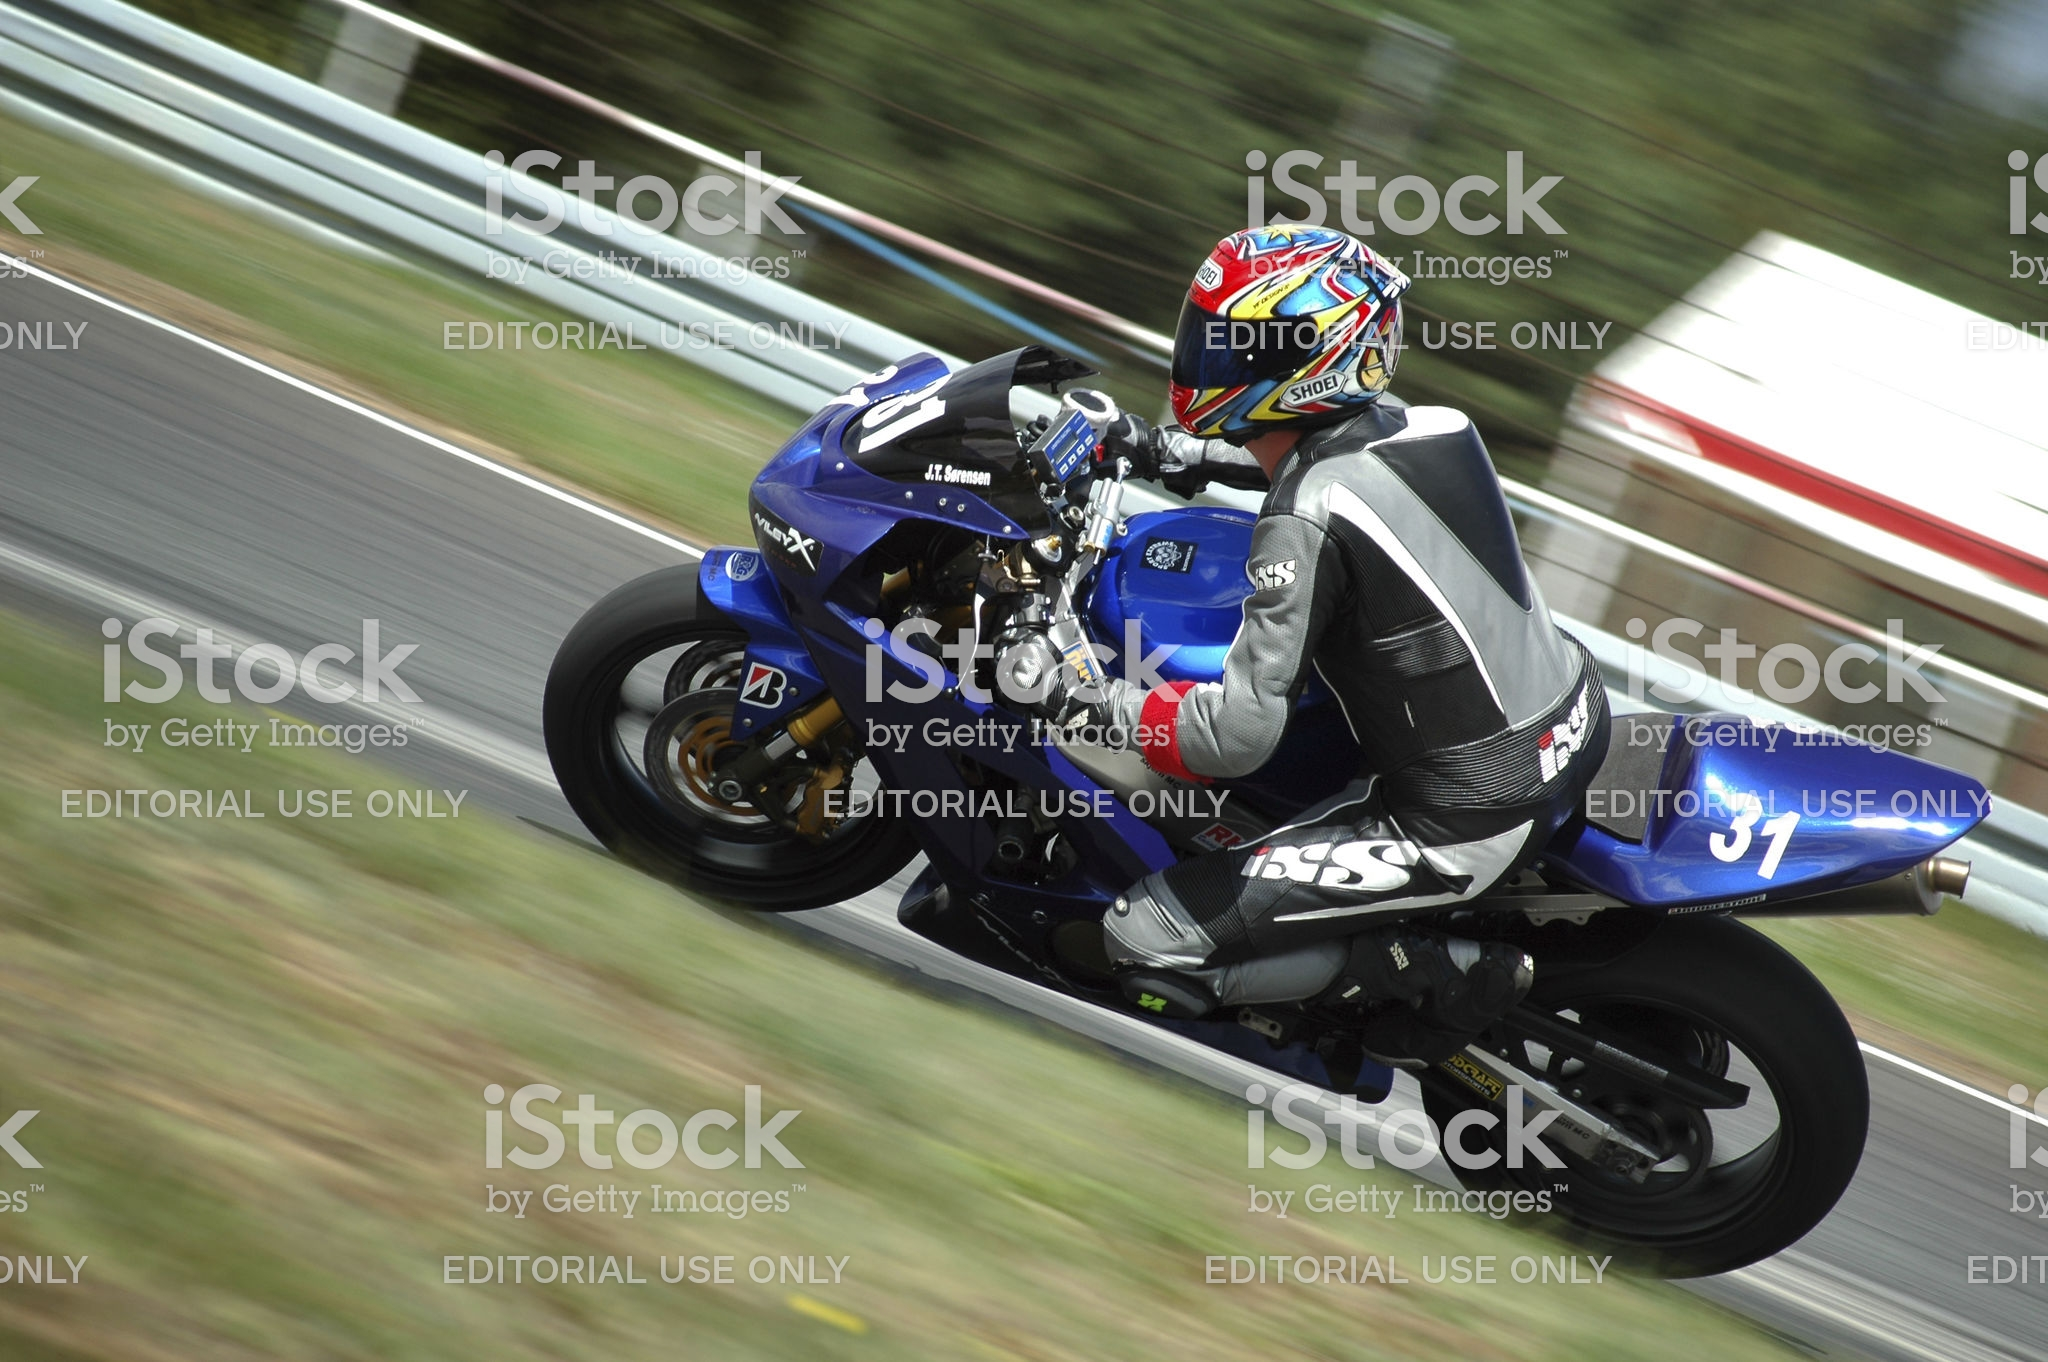helmet: (1130, 230, 1436, 426)
